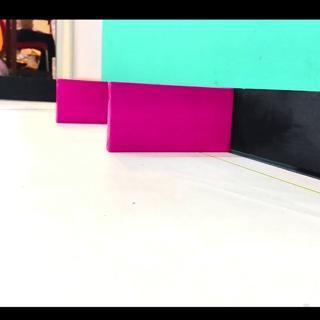xparking: (110, 89, 230, 152), (59, 84, 108, 124)
